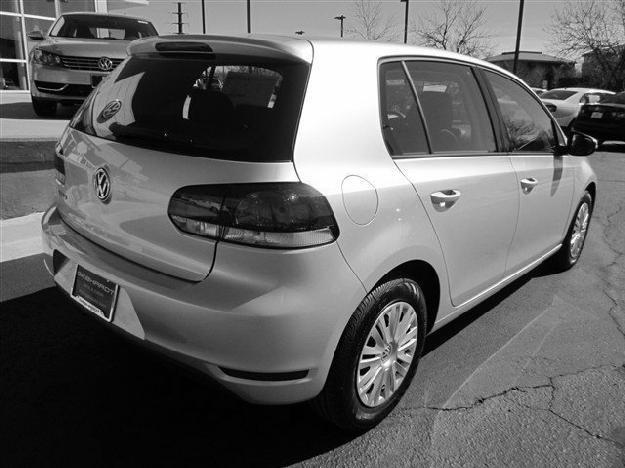car: (40, 34, 600, 430)
